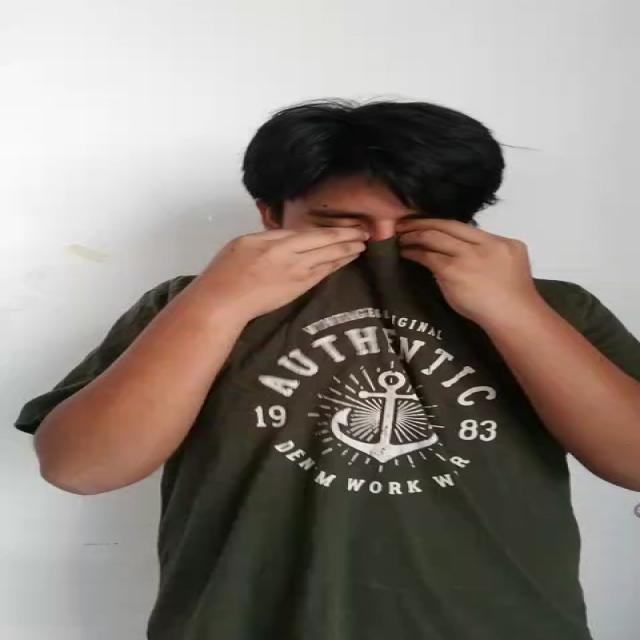8_ropa_rostro: (198, 227, 566, 342)
